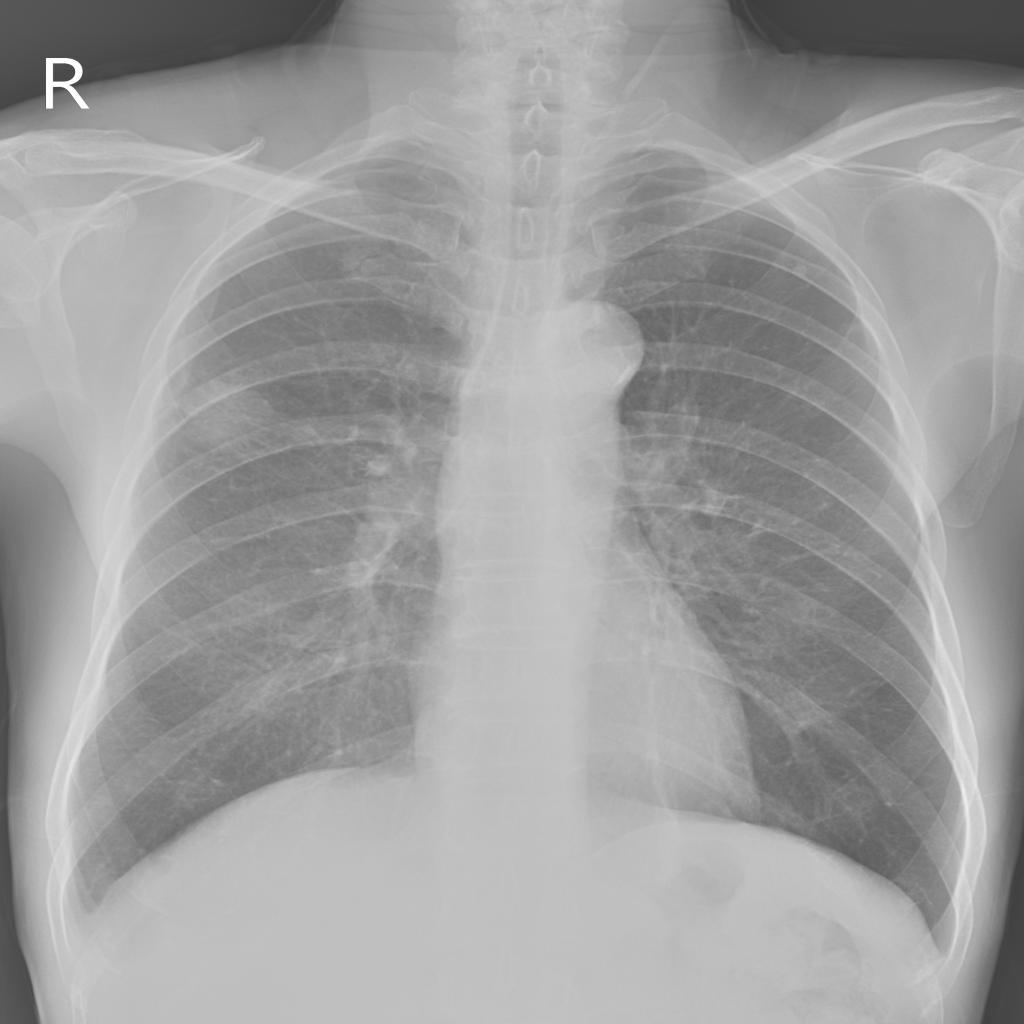Nodule: (182, 378, 274, 446), (793, 262, 809, 281)
